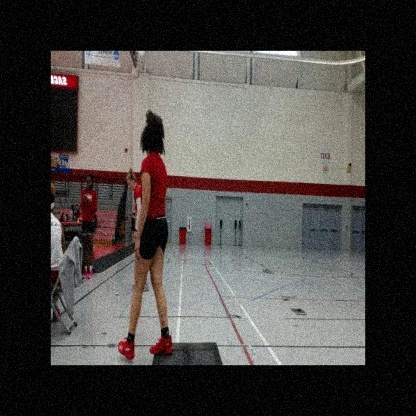lateral_flexion_right: (116, 110, 174, 365)
stance_width_broad: (117, 152, 174, 365)
